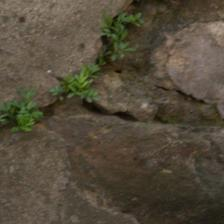Crack: (4, 4, 131, 124), (80, 96, 195, 136)
